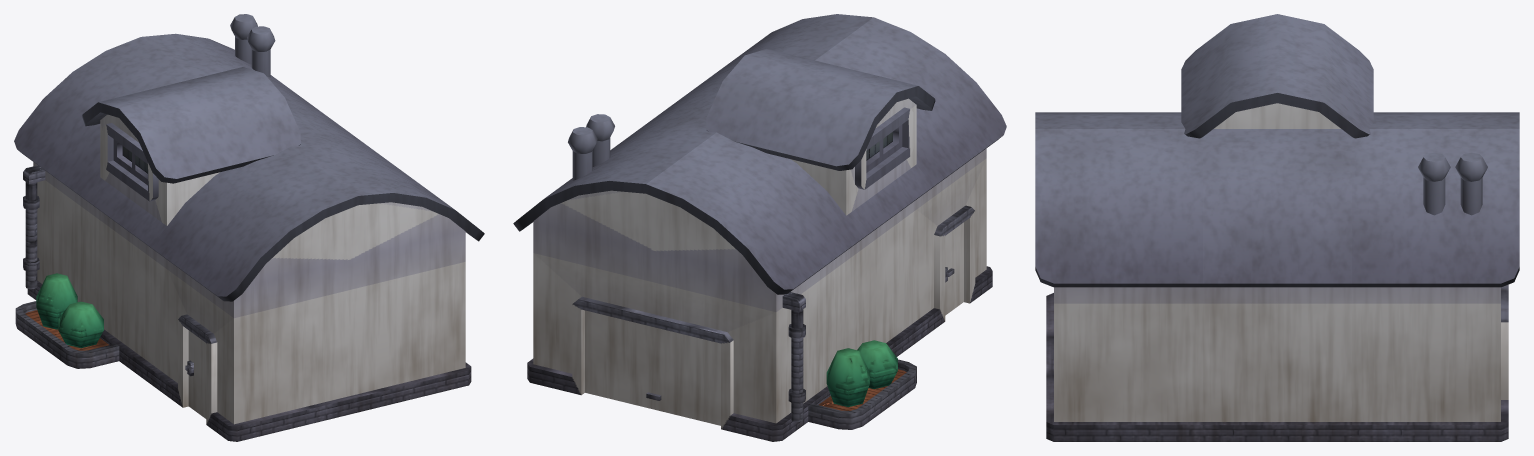
File: building-j-white.glb
3 views of the same model, side by side, from view 1: azimuth 30°, elevation 25°; view 2: azimuth 150°, elevation 25°; view 3: azimuth 270°, elevation 25° (orthographic). The views are drawn at different scales.
Visible parts, largest first — view 1: building-j; view 2: building-j; view 3: building-j.
Boxes of the visible parts, left/top/right/bottom form: building-j: left=14, top=14, right=484, bottom=441; building-j: left=513, top=14, right=1006, bottom=441; building-j: left=1035, top=14, right=1519, bottom=441.
Bounding box in the file's own units: 1.03 × 0.8611 × 1.3.
1 material, 1 textured.
